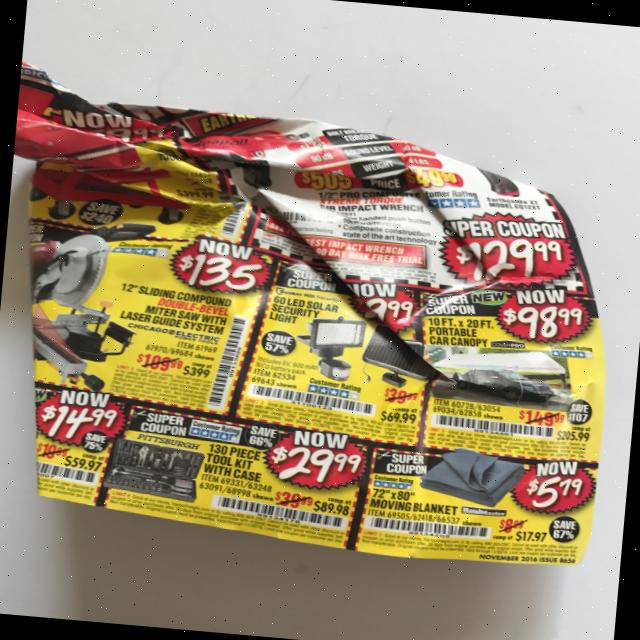paper: (0, 67, 631, 574)
